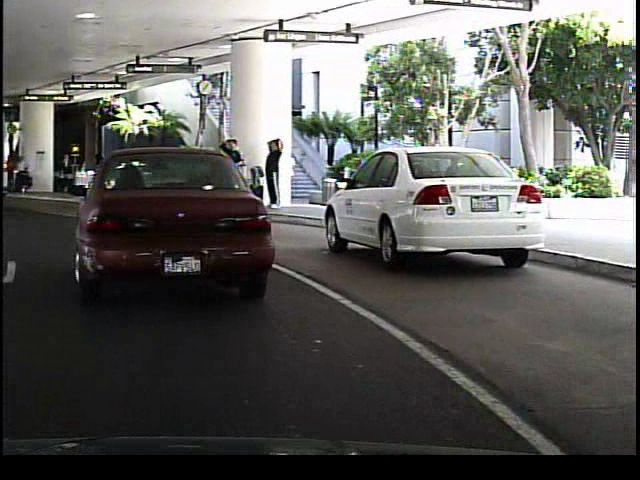person: (217, 133, 242, 210), (262, 133, 283, 210), (278, 146, 300, 208), (112, 156, 127, 194)
